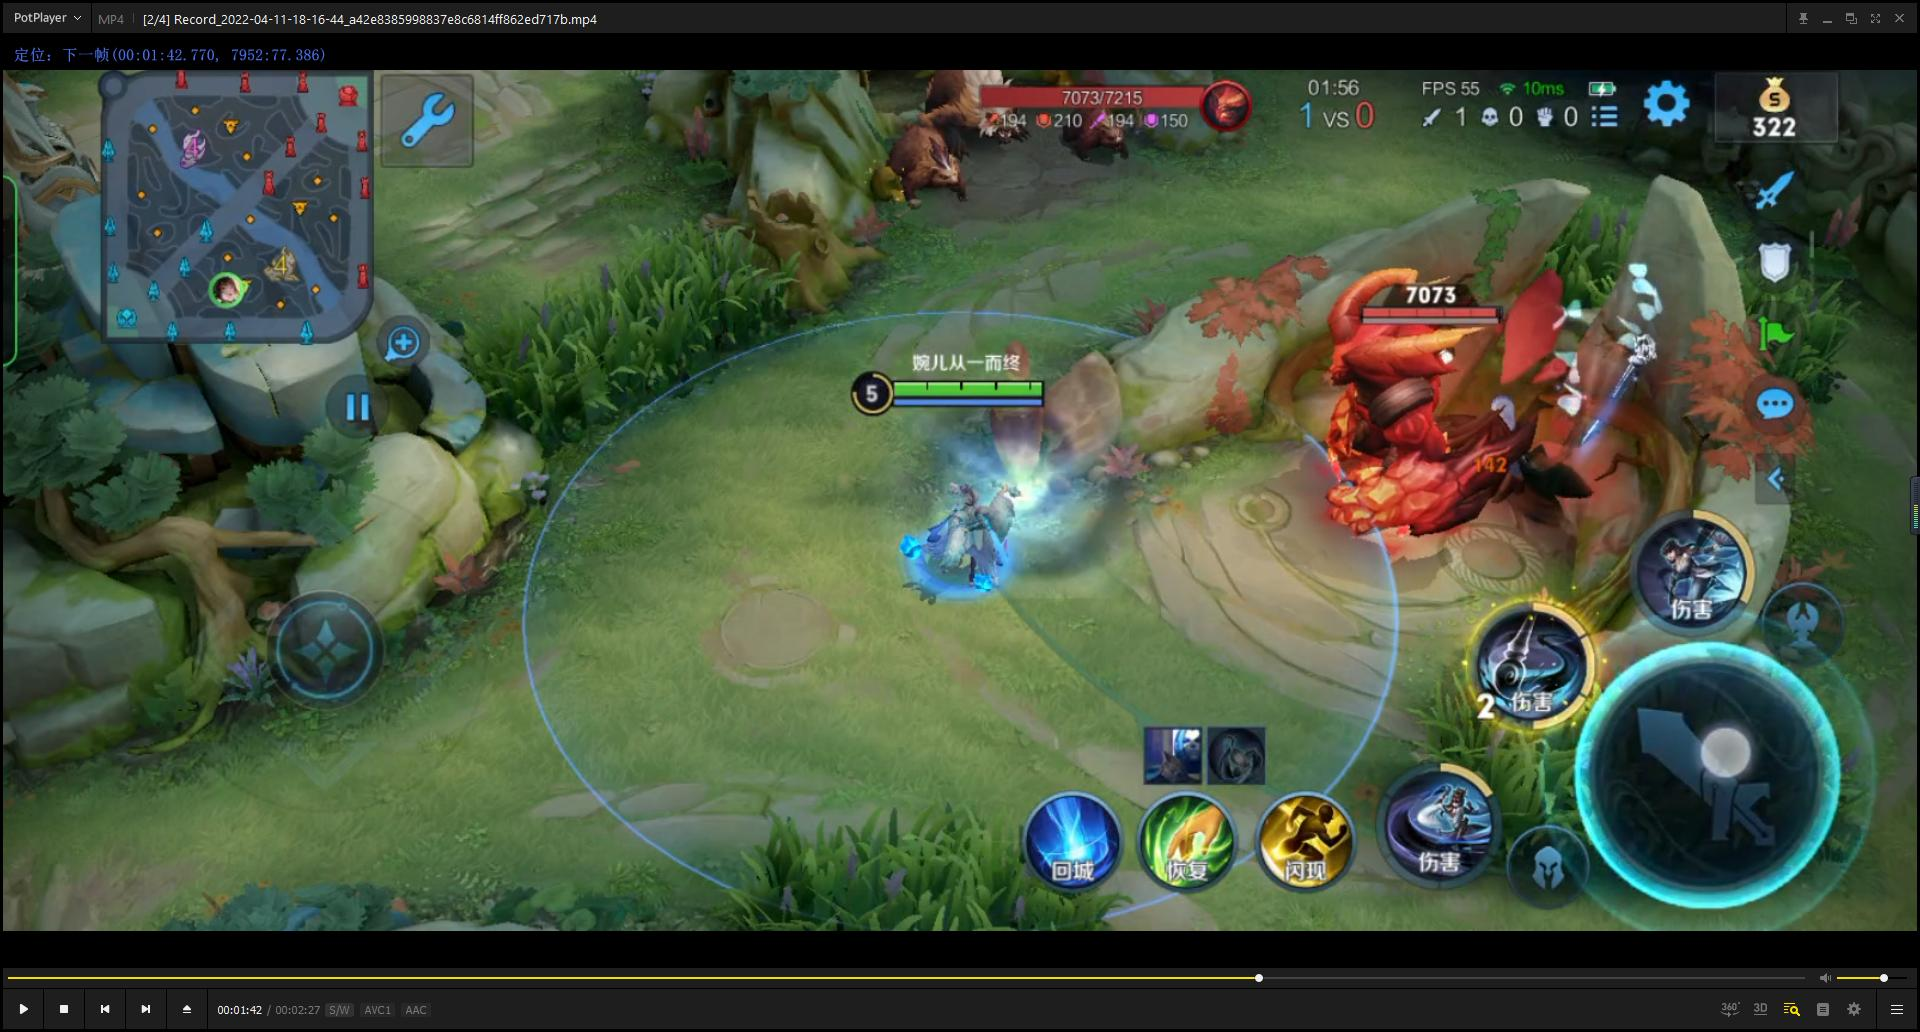Buff: (1285, 261, 1576, 566)
Hero: (883, 461, 1032, 616)
Pig: (849, 128, 970, 250), (1032, 66, 1140, 175), (910, 64, 1024, 153)
